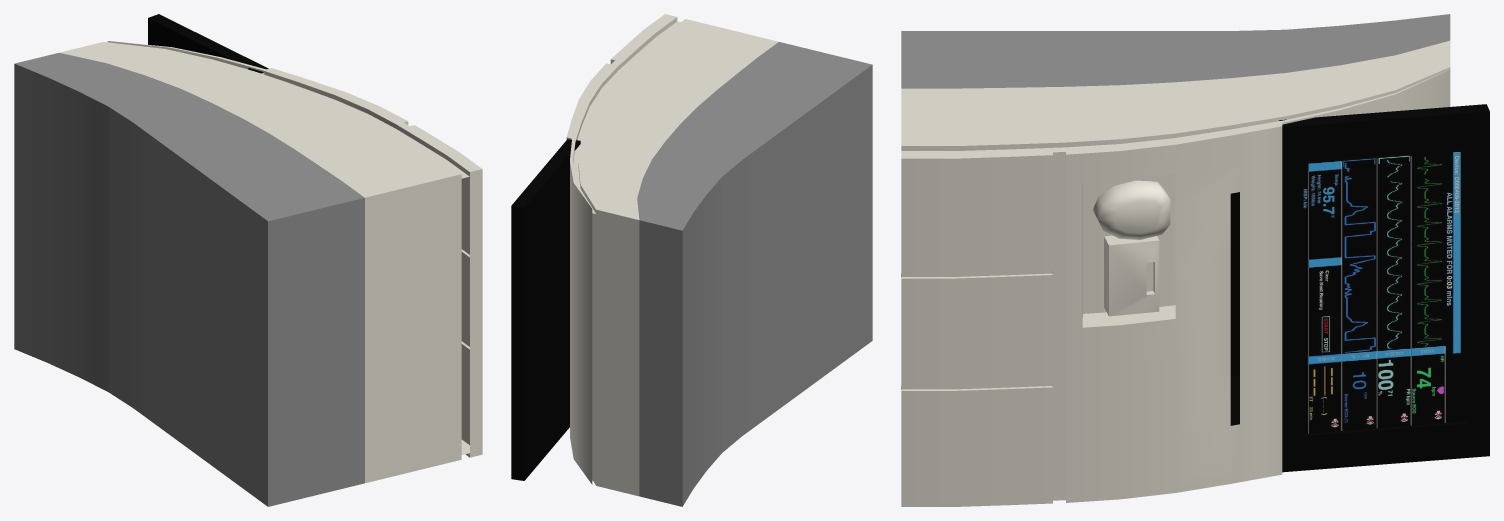
3 renders of one model, left to right at view 1: azimuth 30°, elevation 25°; view 2: azimuth 150°, elevation 25°; view 3: azimuth 270°, elevation 25°, orthographic. The views are drawn at different scales.
Parts seen in each view (by area): view 1: Cube; view 2: Cube; view 3: Cube.
Part boxes in pixels (left/top/right/bottom): Cube: left=14, top=14, right=482, bottom=506; Cube: left=511, top=14, right=872, bottom=506; Cube: left=901, top=14, right=1489, bottom=506.
Size of the model in its own units: 24.94 by 28 by 42.9.
